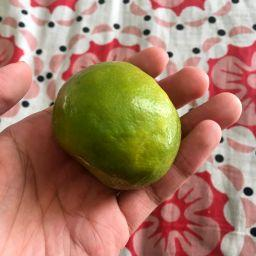Unripe: (53, 59, 183, 189)
